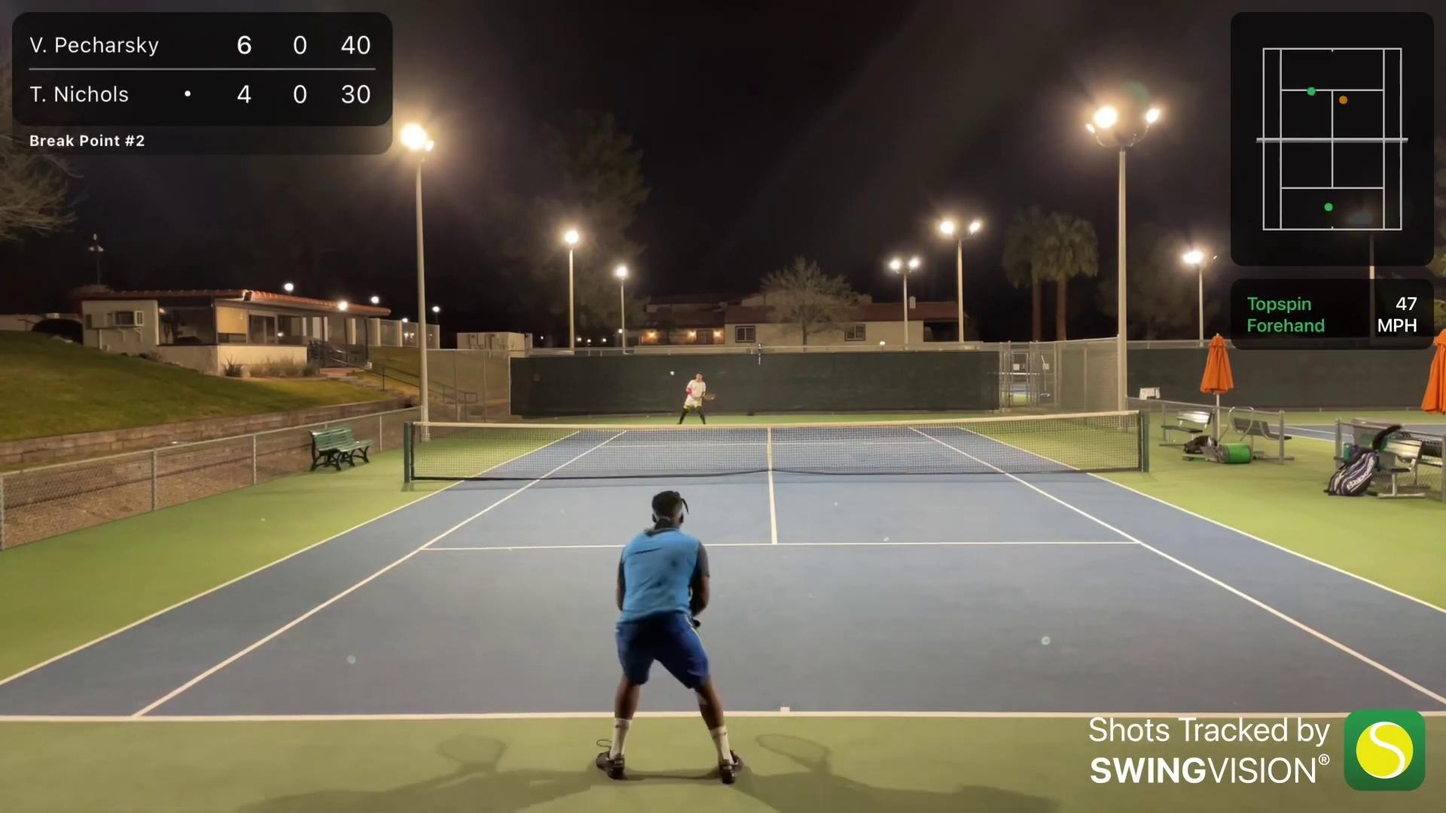ball: (669, 371, 674, 376)
